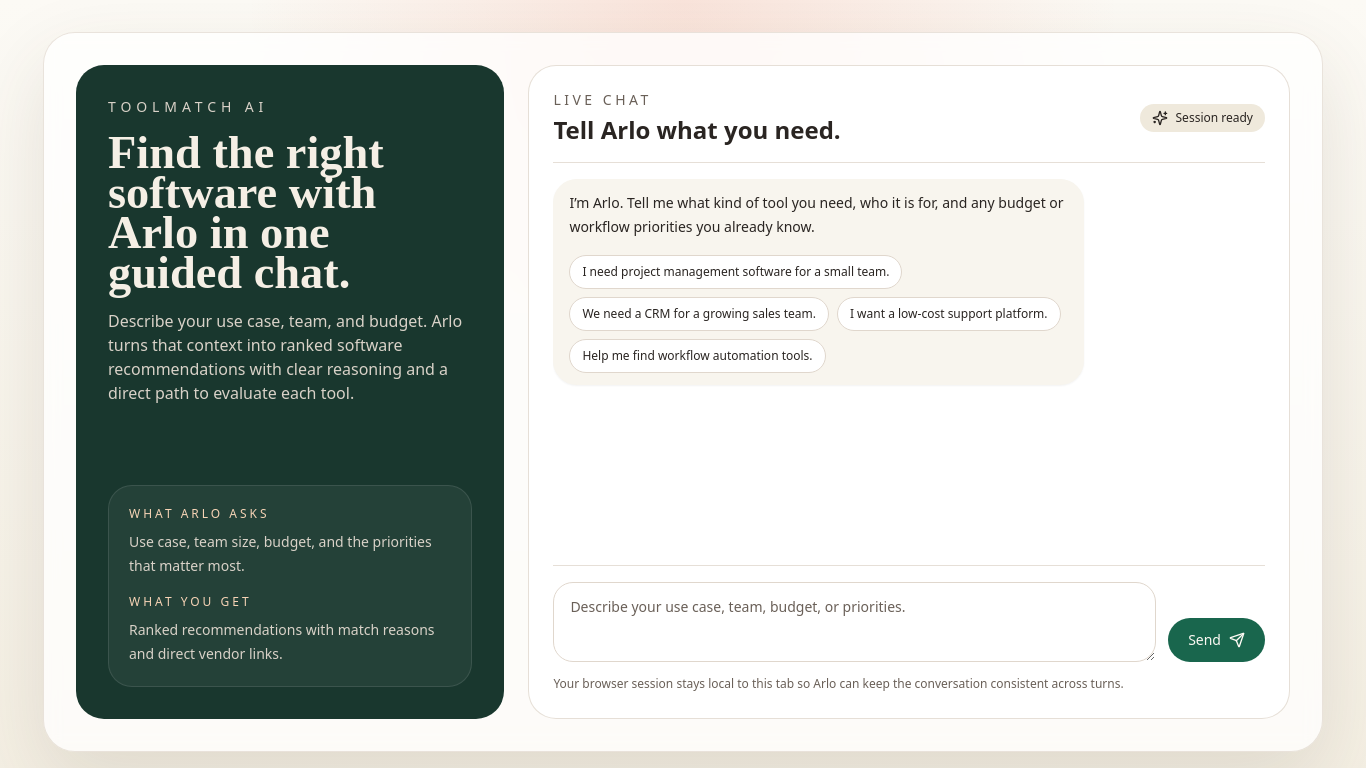
Scenario: ChatExperience › preserves prior transcript state when a chat request fails
Step 1. Type "We need a CRM for a growing team." into the text box named "describe the tool you need" → (855, 622), box [553, 582, 1156, 662]
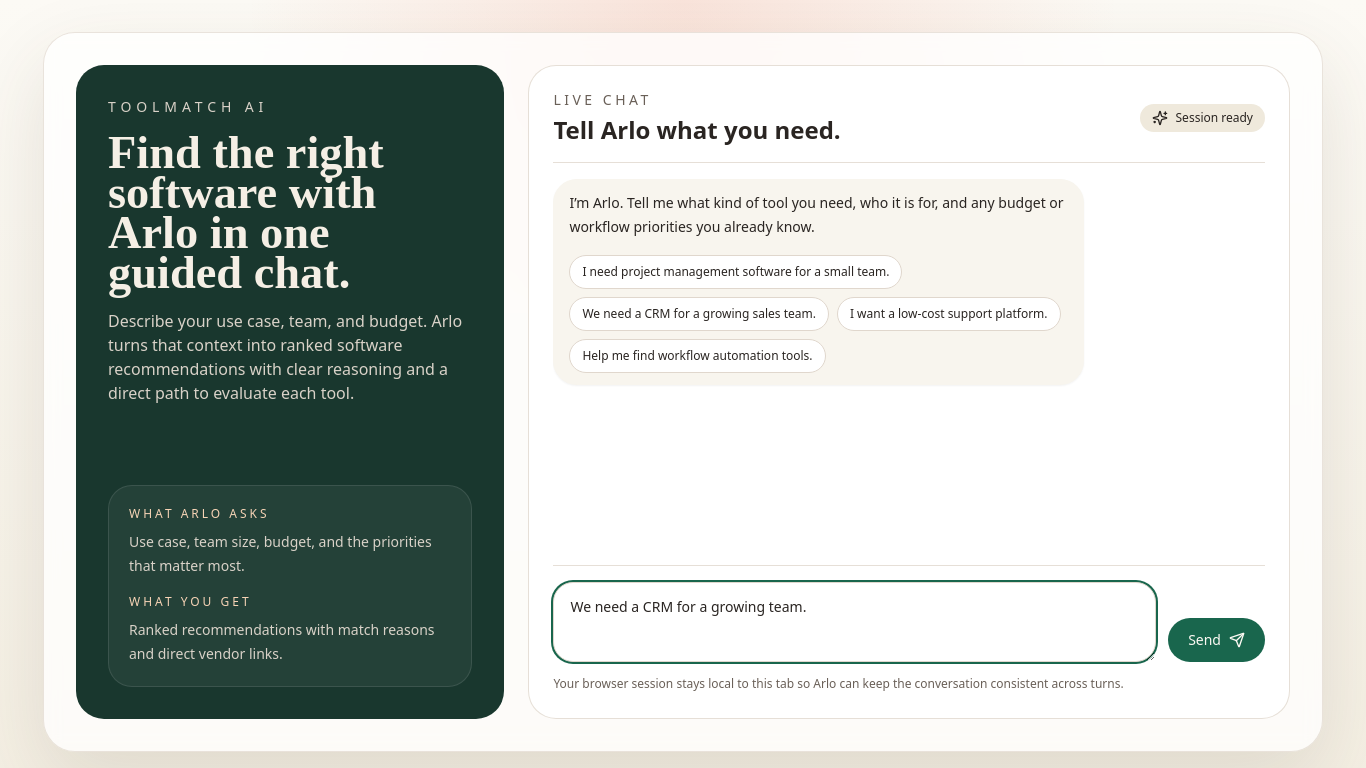
Step 2. Click the button "Send" → (1217, 640), box [1168, 618, 1265, 662]
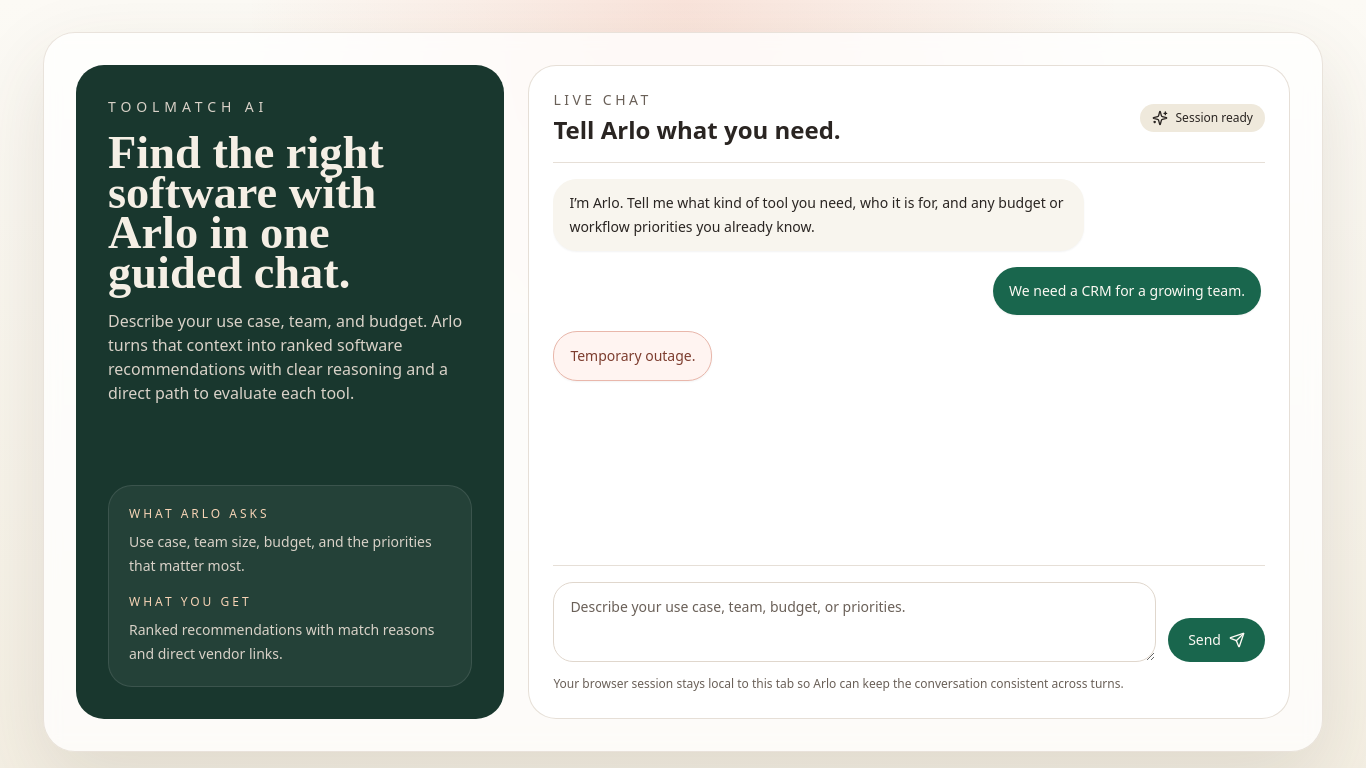
Expected: the text "Tell me what kind of tool you need" is shown, [569, 193, 1064, 236]
Now the text "We need a CRM for a growing team." is shown, box [1009, 279, 1245, 303]
Now the text "Temporary outage." is shown, box [553, 331, 712, 381]
